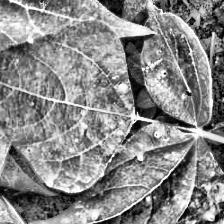Bean Rust: (0, 24, 130, 194), (32, 124, 215, 224), (140, 0, 209, 125), (0, 0, 149, 48)
